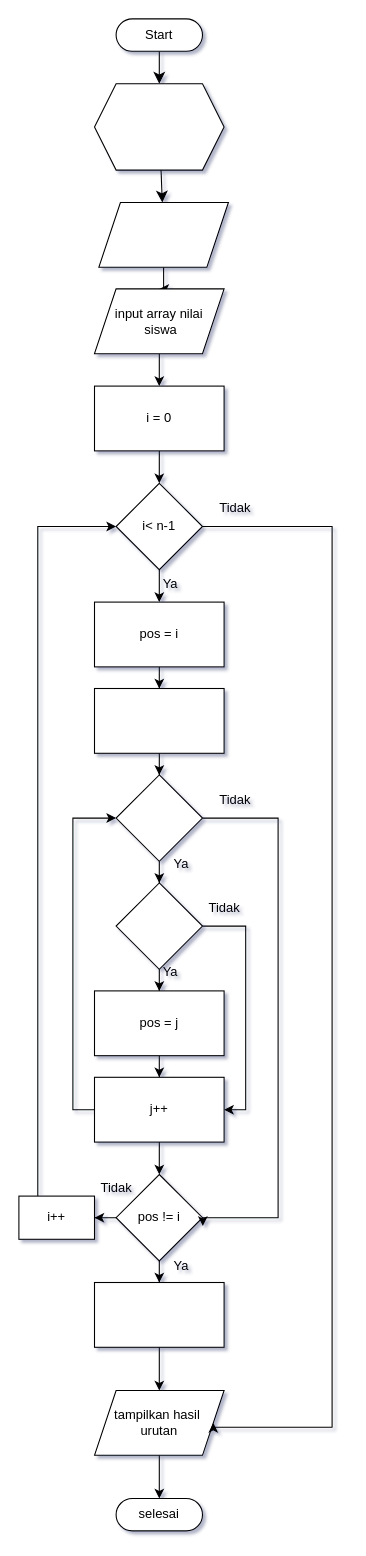
Some shapes in this 366 by 1556 pixel diagram are drawn without their labels. Each missing label, with the box of its shape:
arr[j] > arr[pos]: (115, 882, 202, 969)
input n (jumlah siswa): (98, 201, 228, 267)
j = i+1: (93, 687, 224, 753)
j<n: (115, 774, 202, 861)
jumlahsiswa dan nilaisiswa: (93, 83, 224, 170)
tukar arr[i] dengan arr [pos]: (93, 1281, 224, 1347)
